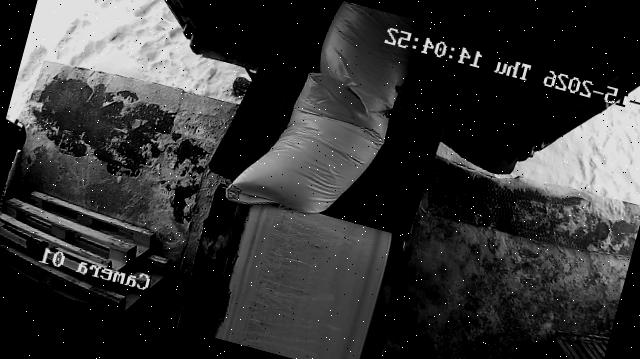bag: (224, 58, 396, 235), (307, 0, 440, 125)
